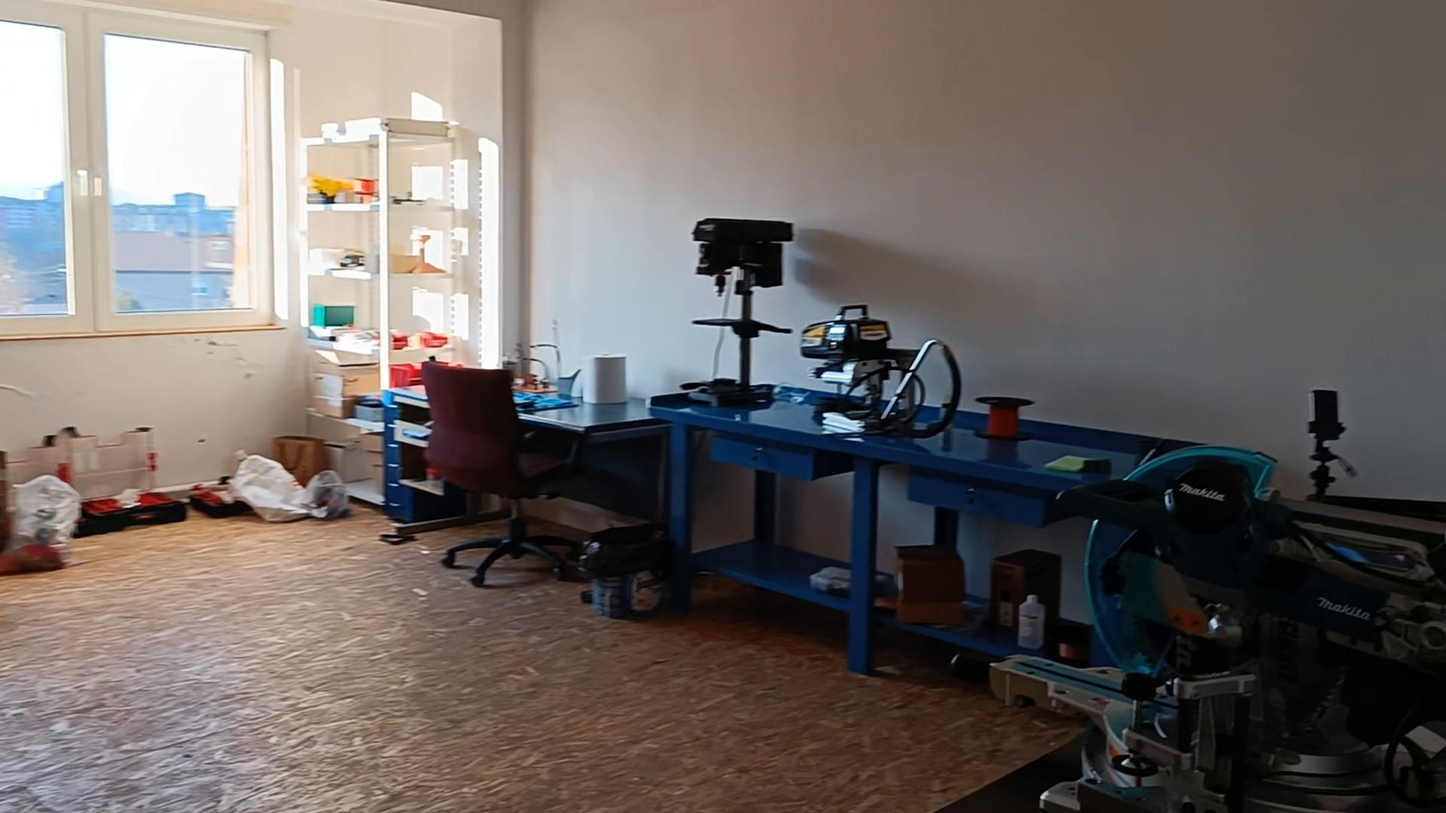floor: (0, 510, 1078, 812)
wall: (311, 5, 1442, 501), (0, 324, 338, 487)
